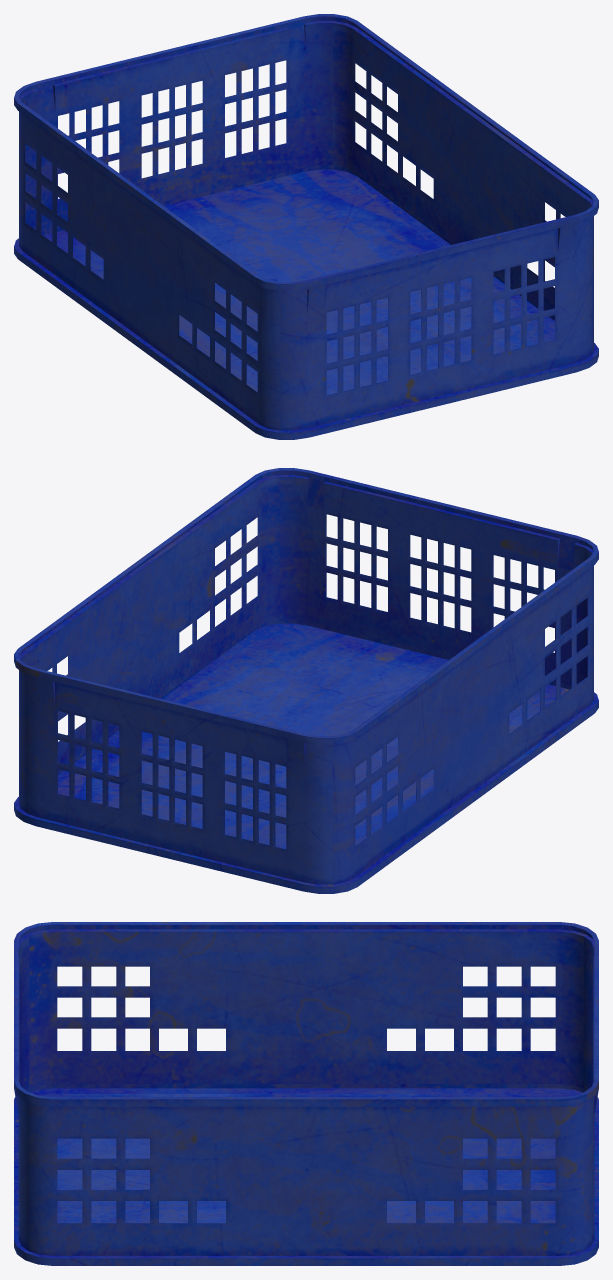
The model's file is blueCret.glb.
The picture shows the model from 3 angles, top to bottom: view 1: azimuth 30°, elevation 25°; view 2: azimuth 150°, elevation 25°; view 3: azimuth 270°, elevation 25°; orthographic projection. The views are drawn at different scales.
Parts seen in each view (by area): view 1: SM_Crate_2; view 2: SM_Crate_2; view 3: SM_Crate_2.
Boxes of the visible parts, x1,y1,x2,y2 form: SM_Crate_2: (14,14,598,439); SM_Crate_2: (14,468,598,893); SM_Crate_2: (14,922,598,1265).
Bounding box in the file's own units: 4.14 × 1.82 × 5.78.
Materials: 1 (1 with a texture image).
